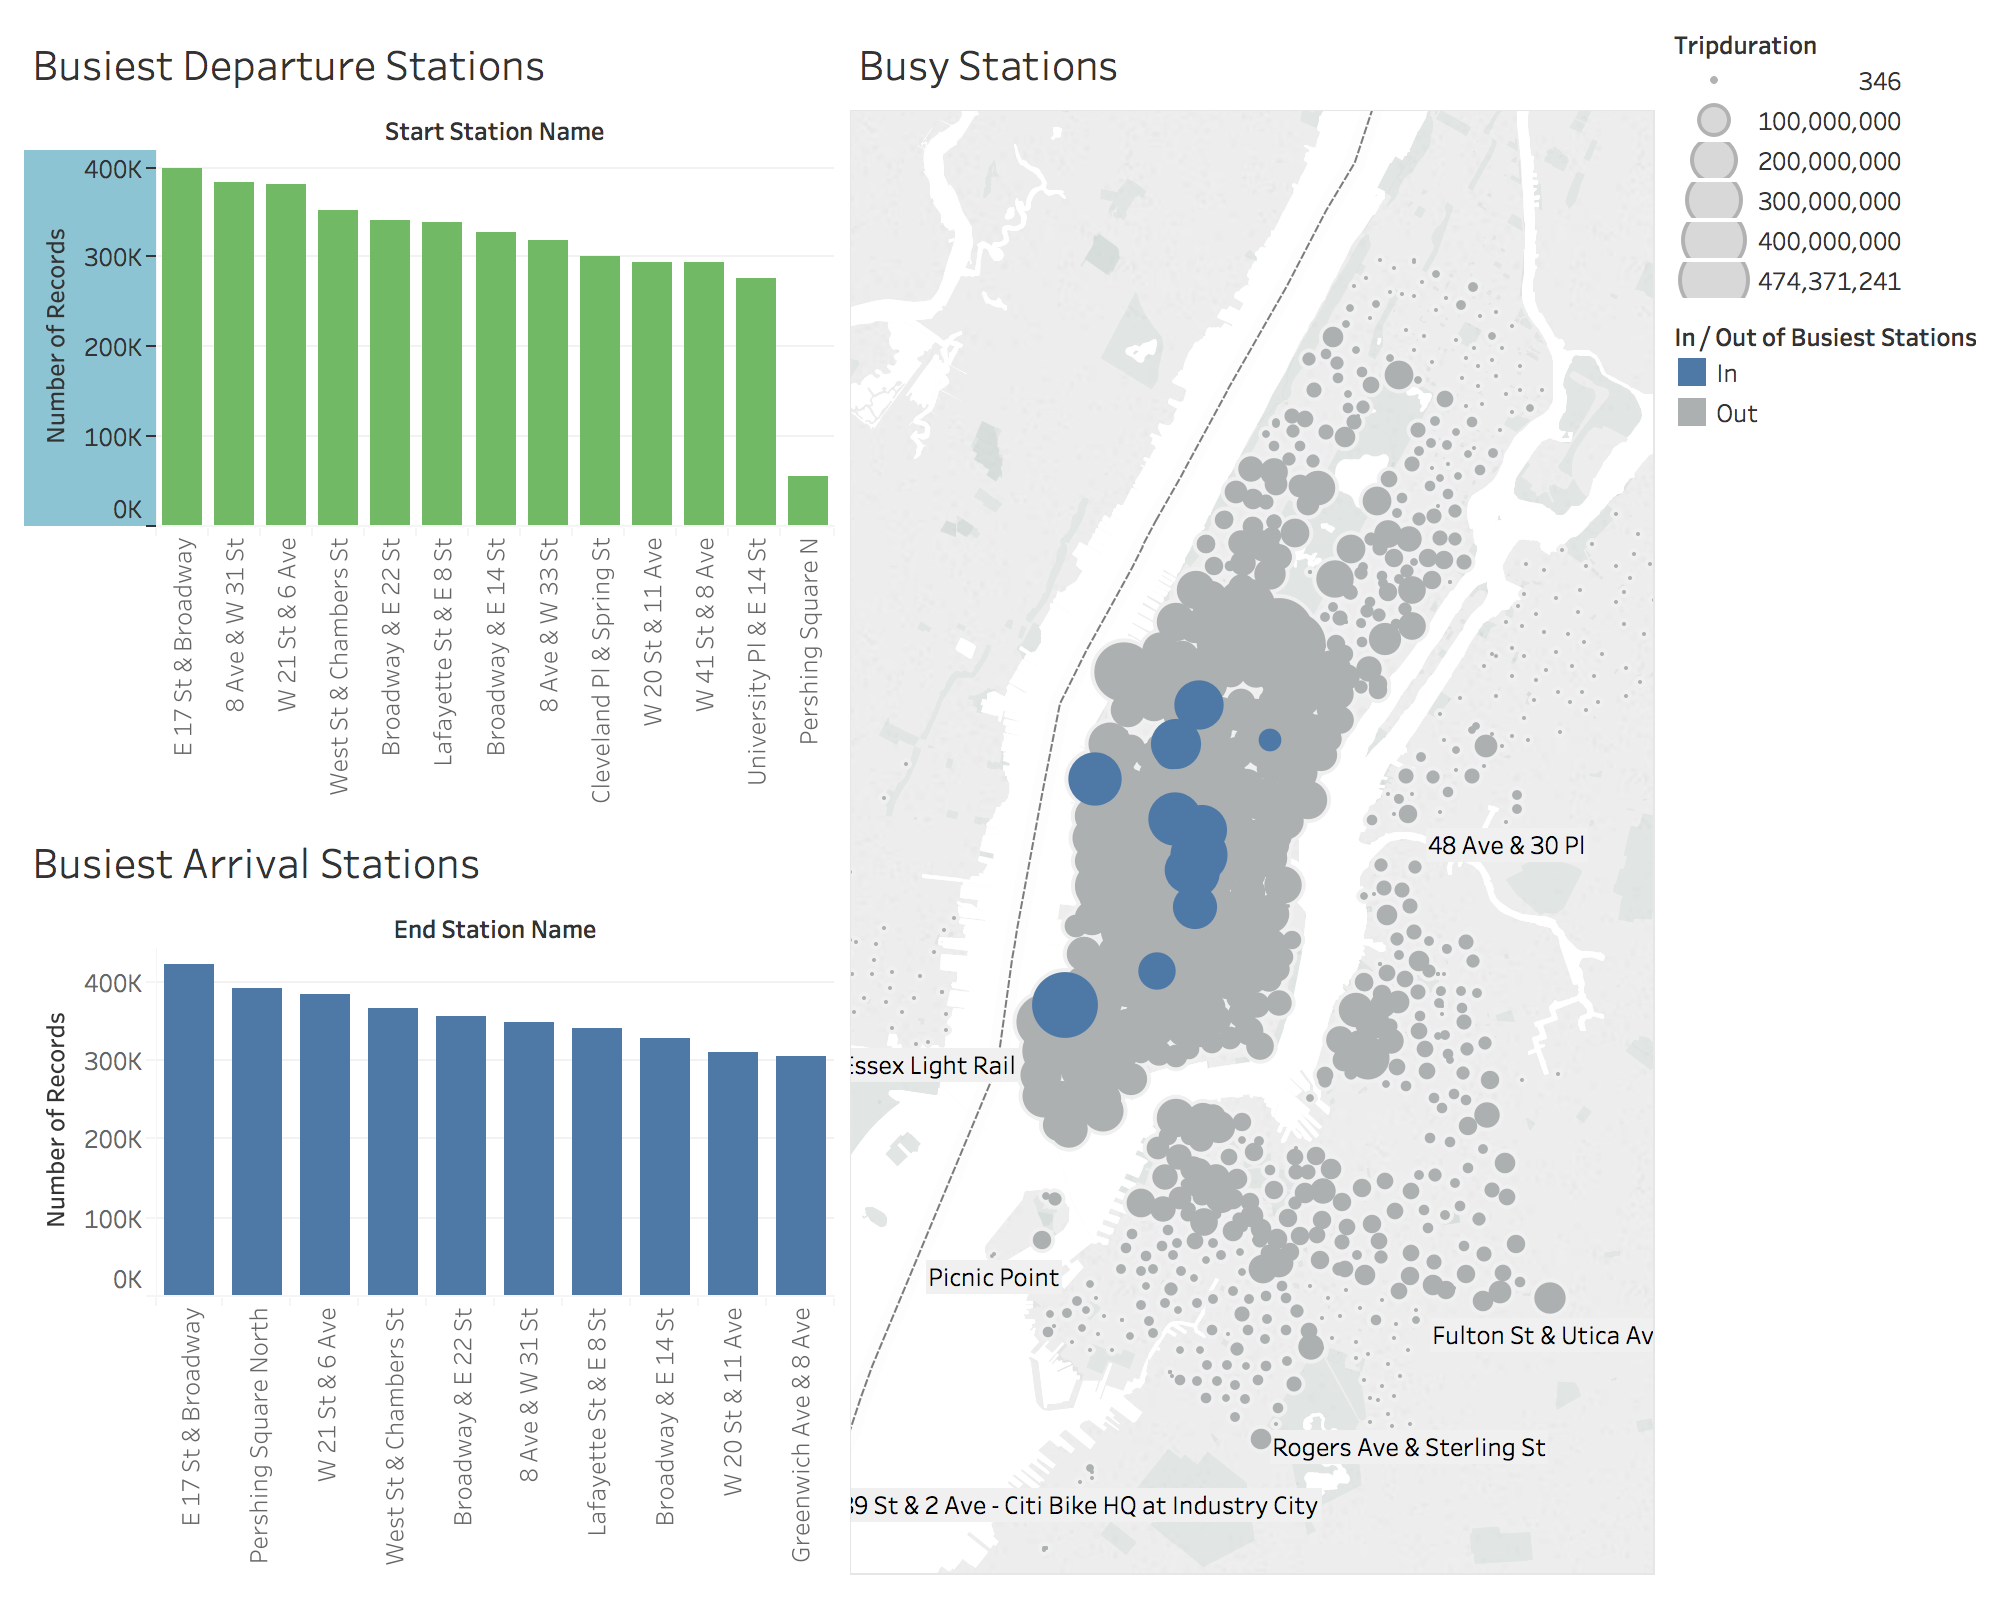

The page's visual inventory and layout, read from the dashboard file:
{"tool":"tableau","page":{"name":"Busiest Stations","canvas":[1000,800],"ordinal":1},"visuals":[{"type":"worksheet","title":"Busiest Departure Stations","mark":"Automatic","rows":["Number of Records"],"cols":["start station name"],"box":[8,8,412.8,399]},{"type":"worksheet","title":"Busy Stations","mark":"Automatic","rows":["start station latitude"],"cols":["start station longitude"],"box":[420.8,8,411.2,784]},{"type":"legend","title":"Busy Stations","param":"[federated.0x51q6s12otagk0zydfru00vy6tf].[sum:tripduration:qk]","box":[832,8,160,146]},{"type":"legend","title":"Busy Stations","param":"[federated.0x51q6s12otagk0zydfru00vy6tf].[io:Busiest Stations:nk]","box":[832,154,160,66]},{"type":"worksheet","title":"Busiest Arrival Stations","mark":"Automatic","rows":["Number of Records"],"cols":["end station name"],"box":[8,407,412.8,385]}]}

Visuals, with their boxes in screenshot pixels (x1, y1, x2, y2), scaled from the page's 1000x800 canvas onto the 2000x1600 screenshot:
"Busiest Departure Stations" worksheet: Rect(16, 16, 842, 814)
"Busy Stations" worksheet: Rect(842, 16, 1664, 1584)
"Busy Stations" legend: Rect(1664, 16, 1984, 308)
"Busy Stations" legend: Rect(1664, 308, 1984, 440)
"Busiest Arrival Stations" worksheet: Rect(16, 814, 842, 1584)
